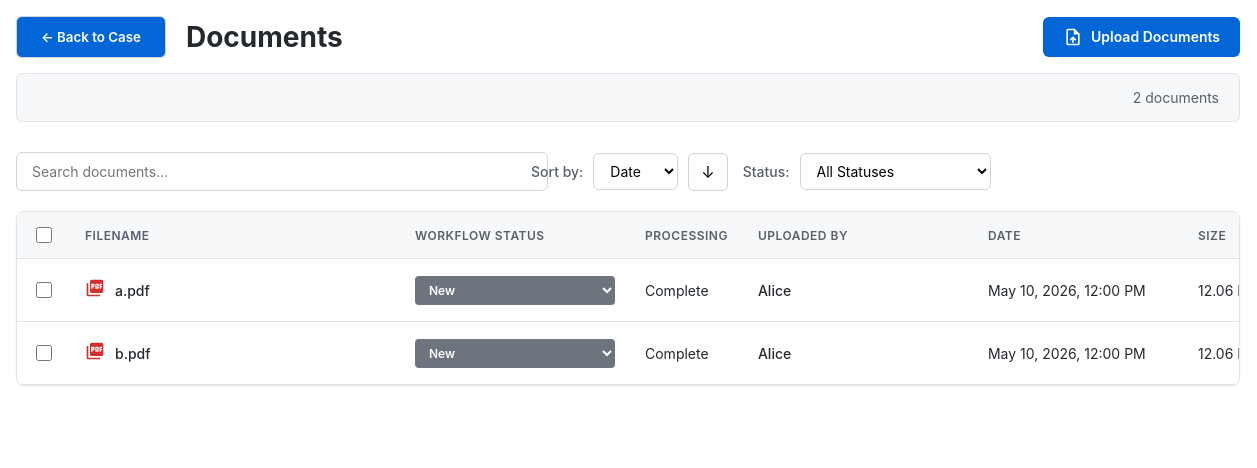
Test case: CaseDocuments — selection and bulk actions › select-all selects every doc; clicking again clears
The image size is (1257, 468).
Expected: the text "a.pdf" is shown, [115,282,150,298]
Click the checkbox next to "Filename" at {"x": 44, "y": 235}, box [36,227,52,243]
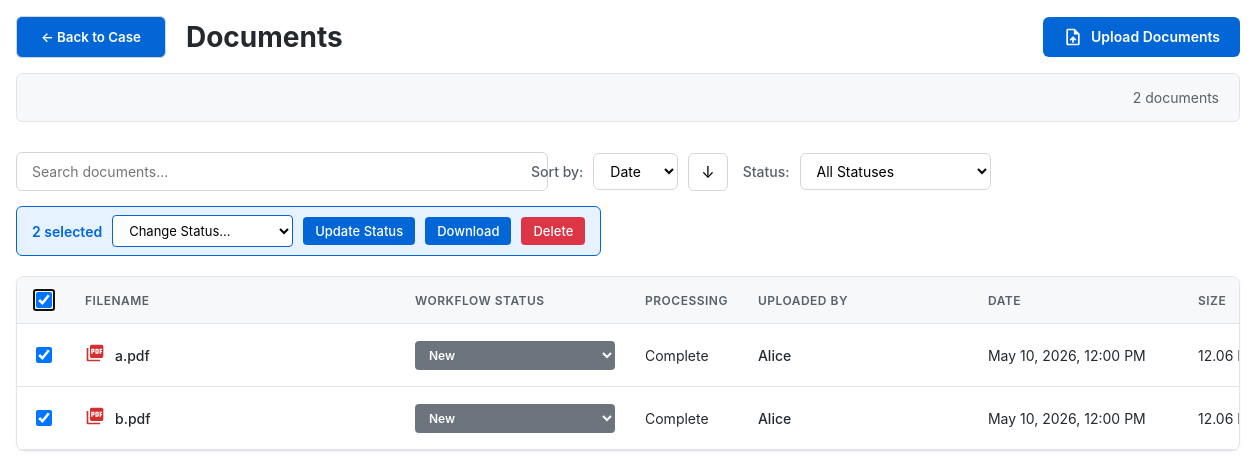
Now the text "2 selected" is shown, box [32,222,102,240]
Click the checkbox next to "Filename" at {"x": 44, "y": 300}, box [36,292,52,308]
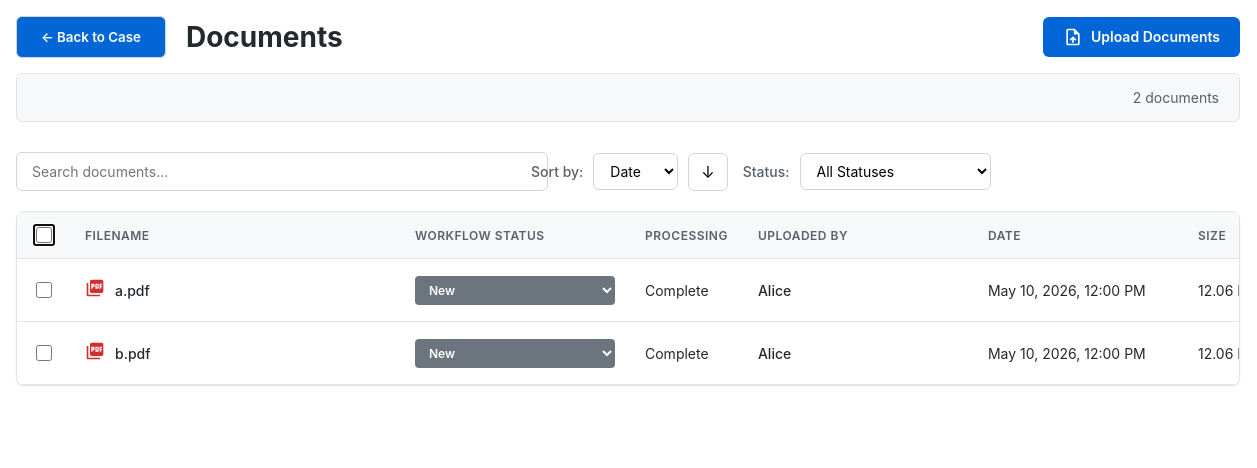
Now the text "selected" is gone
